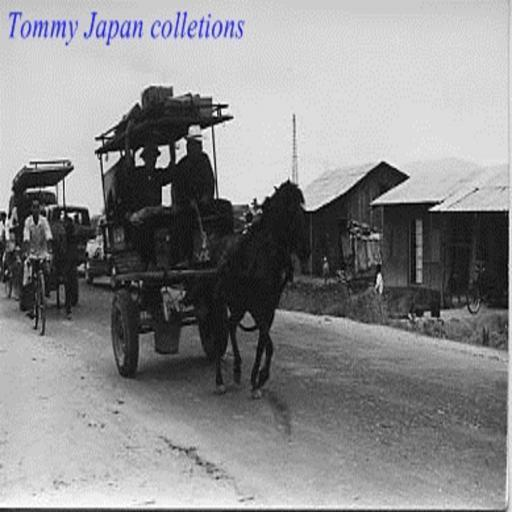horse: (206, 178, 314, 397)
